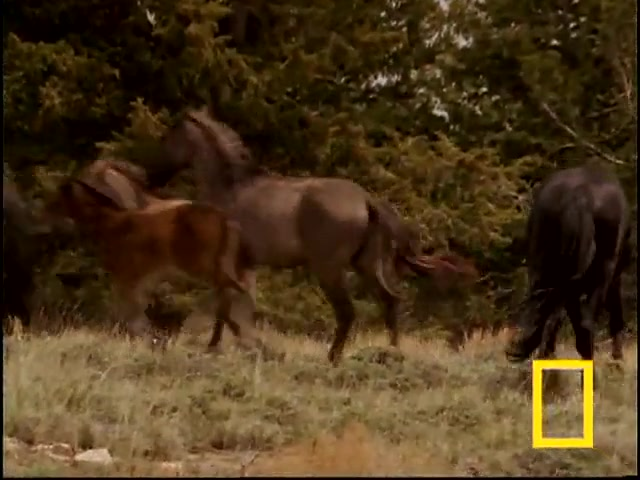horse: (148, 107, 480, 367)
